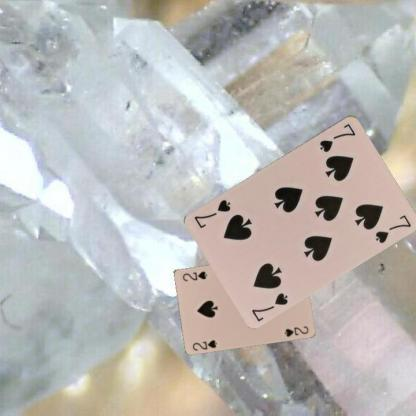2s: (190, 337, 218, 352)
7s: (317, 120, 357, 153), (249, 290, 289, 323)
